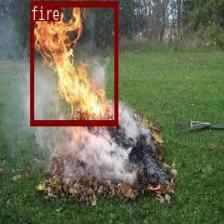fire: (30, 0, 117, 124)
